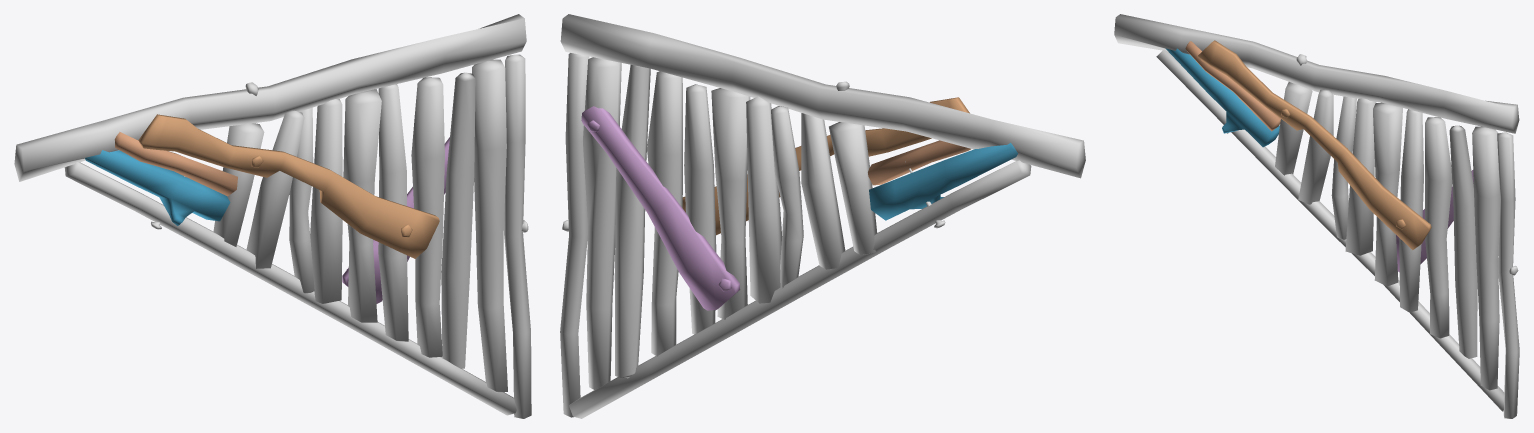
Rendered from PBW_W1_Brace.glb.
The picture shows the model from 3 angles, left to right: view 1: azimuth 30°, elevation 25°; view 2: azimuth 150°, elevation 25°; view 3: azimuth 330°, elevation 25°; orthographic projection. The views are drawn at different scales.
Parts seen in each view (by area): view 1: PBW_W1_Brace; view 2: PBW_W1_Brace; view 3: PBW_W1_Brace.
Boxes of the visible parts, x1,y1,x2,y2 form: PBW_W1_Brace: [14, 14, 531, 418]; PBW_W1_Brace: [560, 14, 1085, 418]; PBW_W1_Brace: [1114, 14, 1519, 418].
Size of the model in its own units: 5.17 by 3.87 by 0.4785.
